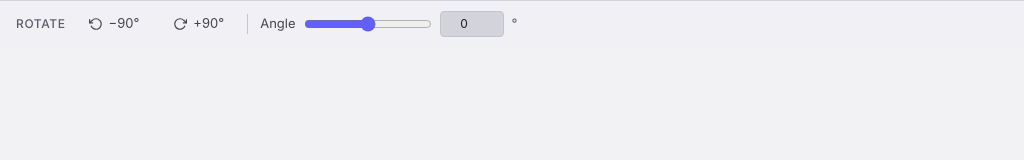
Test case: RotationControls › Degree input and slider stay in sync
This screenshot has width=1024, height=160.
Replace the text in the number field named "rotation degrees" with "45". click: (472, 24)
box: [440,11,504,37]
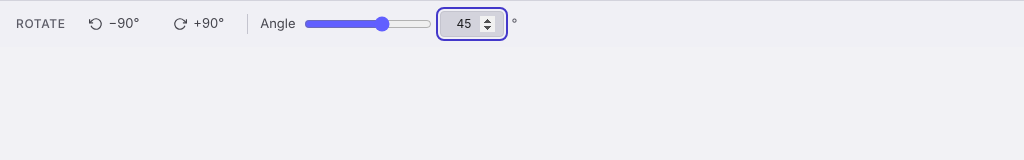
Check: the slider named "rotation angle slider" holds "45", box [304,16,432,32]
